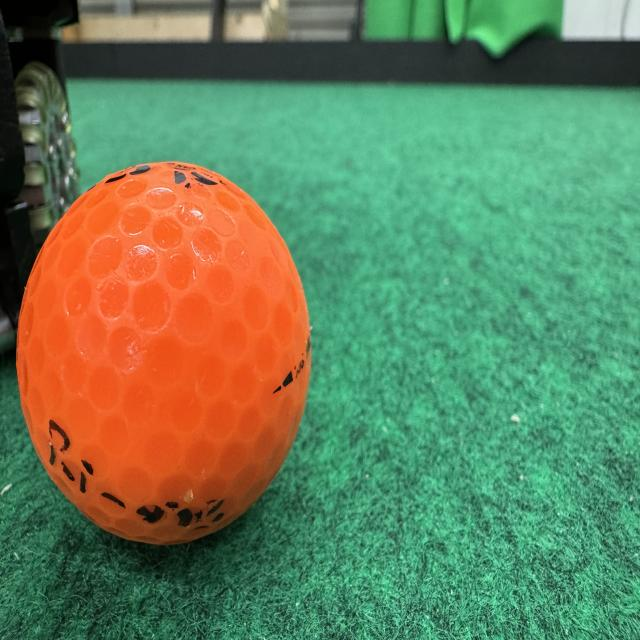ball: (5, 151, 324, 559)
